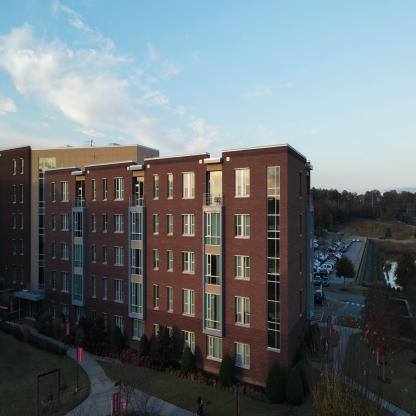Wolf Ridge: (0, 118, 329, 384)
